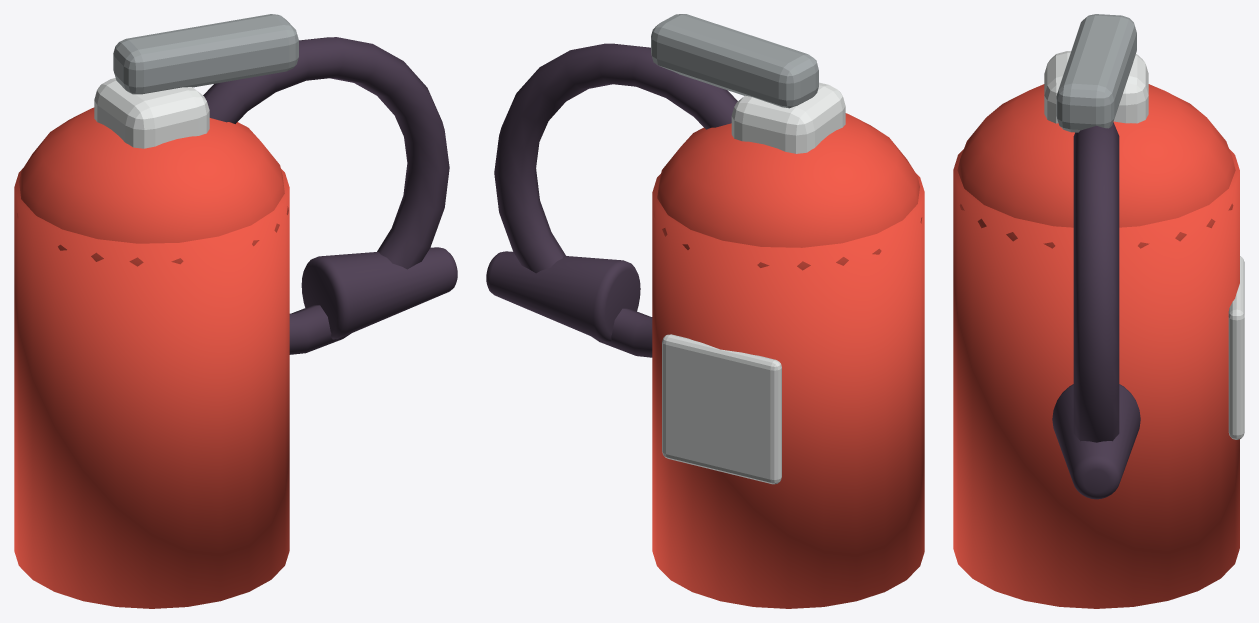
Rendered from FireExtinguisher.fbx.
The picture shows the model from 3 angles, left to right: view 1: azimuth 30°, elevation 25°; view 2: azimuth 150°, elevation 25°; view 3: azimuth 270°, elevation 25°; orthographic projection. The views are drawn at different scales.
Parts seen in each view (by area): view 1: MAT_Red Geometry.001, MAT_DeepInset Geometry.005, MAT_SteelDark Geometry.013, MAT_SteelLight Geometry.013; view 2: MAT_Red Geometry.001, MAT_DeepInset Geometry.005, MAT_Cream Geometry.005, MAT_SteelDark Geometry.013, MAT_SteelLight Geometry.013; view 3: MAT_Red Geometry.001, MAT_DeepInset Geometry.005, MAT_SteelDark Geometry.013, MAT_SteelLight Geometry.013, MAT_Cream Geometry.005.
Boxes of the visible parts, x1,y1,x2,y2 form: MAT_Red Geometry.001: (14, 107, 289, 608); MAT_DeepInset Geometry.005: (203, 37, 457, 354); MAT_SteelDark Geometry.013: (113, 14, 298, 94); MAT_SteelLight Geometry.013: (94, 78, 209, 148); MAT_Red Geometry.001: (652, 113, 924, 608); MAT_DeepInset Geometry.005: (486, 43, 737, 357); MAT_Cream Geometry.005: (662, 334, 781, 484); MAT_SteelDark Geometry.013: (651, 14, 818, 108); MAT_SteelLight Geometry.013: (731, 82, 845, 153); MAT_Red Geometry.001: (953, 84, 1239, 608); MAT_DeepInset Geometry.005: (1052, 122, 1140, 499); MAT_SteelDark Geometry.013: (1056, 14, 1136, 132); MAT_SteelLight Geometry.013: (1044, 51, 1148, 123); MAT_Cream Geometry.005: (1228, 256, 1244, 439).
Bounding box in the file's own units: 77 × 89 × 44.75.
